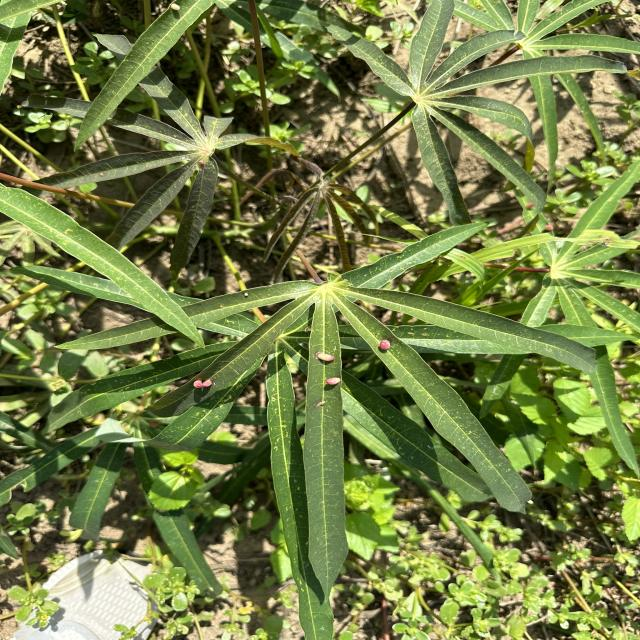Maleza: (422, 510, 640, 640), (505, 363, 614, 483), (353, 465, 411, 564), (163, 455, 209, 514)
Mosca: (311, 342, 356, 418), (368, 336, 409, 363), (189, 367, 221, 394)
